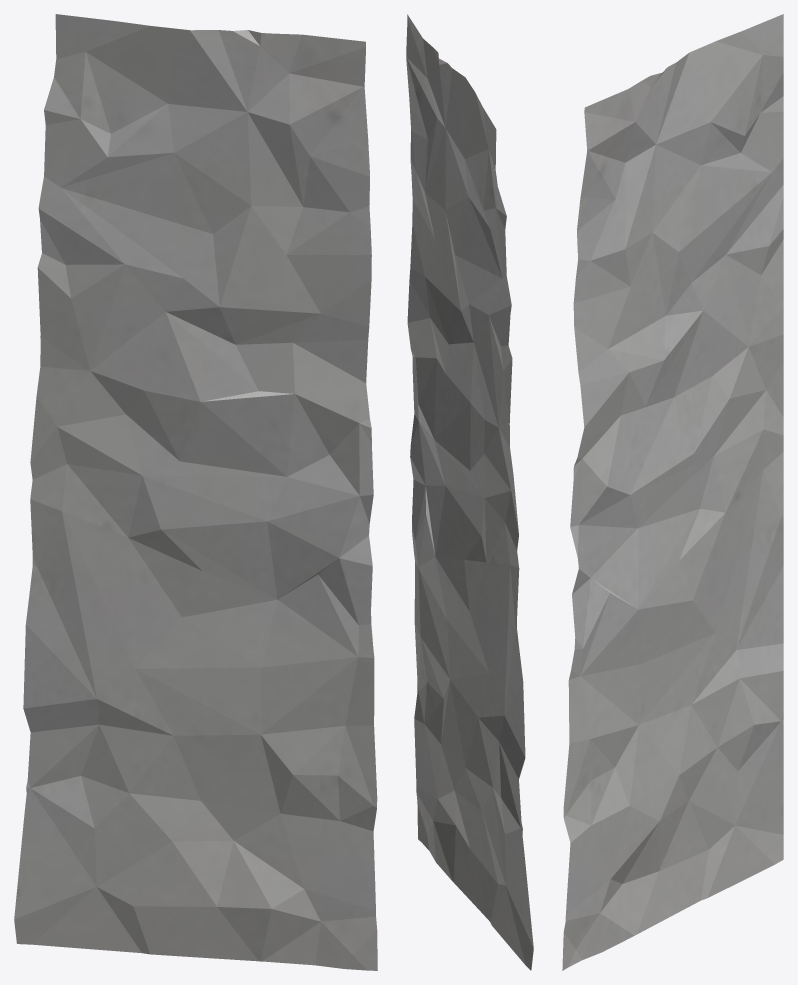
3 renders of one model, left to right at view 1: azimuth 30°, elevation 25°; view 2: azimuth 150°, elevation 25°; view 3: azimuth 270°, elevation 25°, orthographic. The views are drawn at different scales.
Bounding box in the file's own units: 0.234 × 0.8374 × 0.1943.
Materials: 1 (1 with a texture image).
